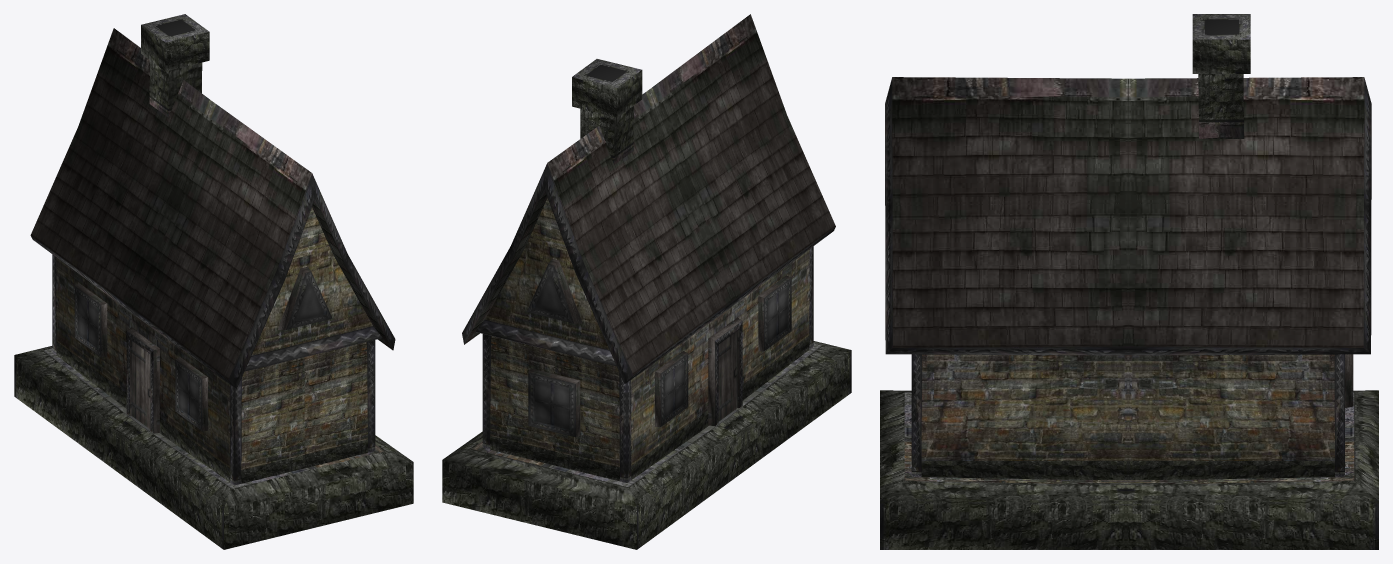
Rendered from house6-04.obj.
3 views of the same model, side by side, from view 1: azimuth 30°, elevation 25°; view 2: azimuth 150°, elevation 25°; view 3: azimuth 270°, elevation 25° (orthographic). The views are drawn at different scales.
Bounding box in the file's own units: 4.96 × 9.81 × 9.48.
Materials: 1 (1 with a texture image).
